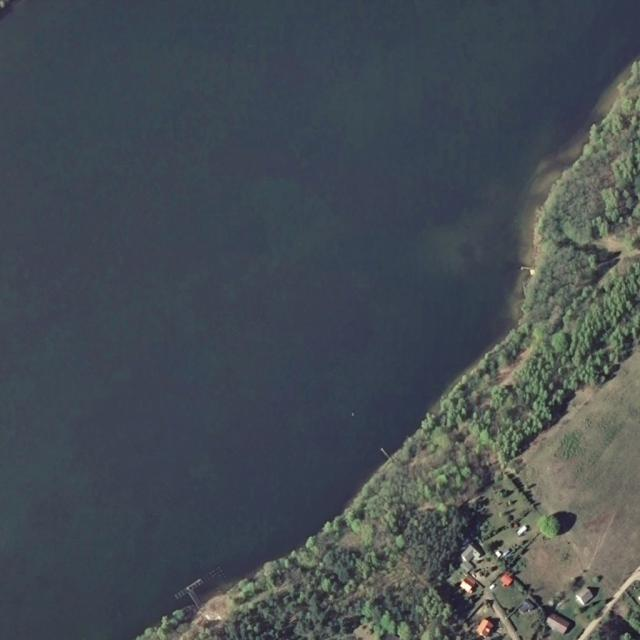building: (434, 539, 640, 640)
